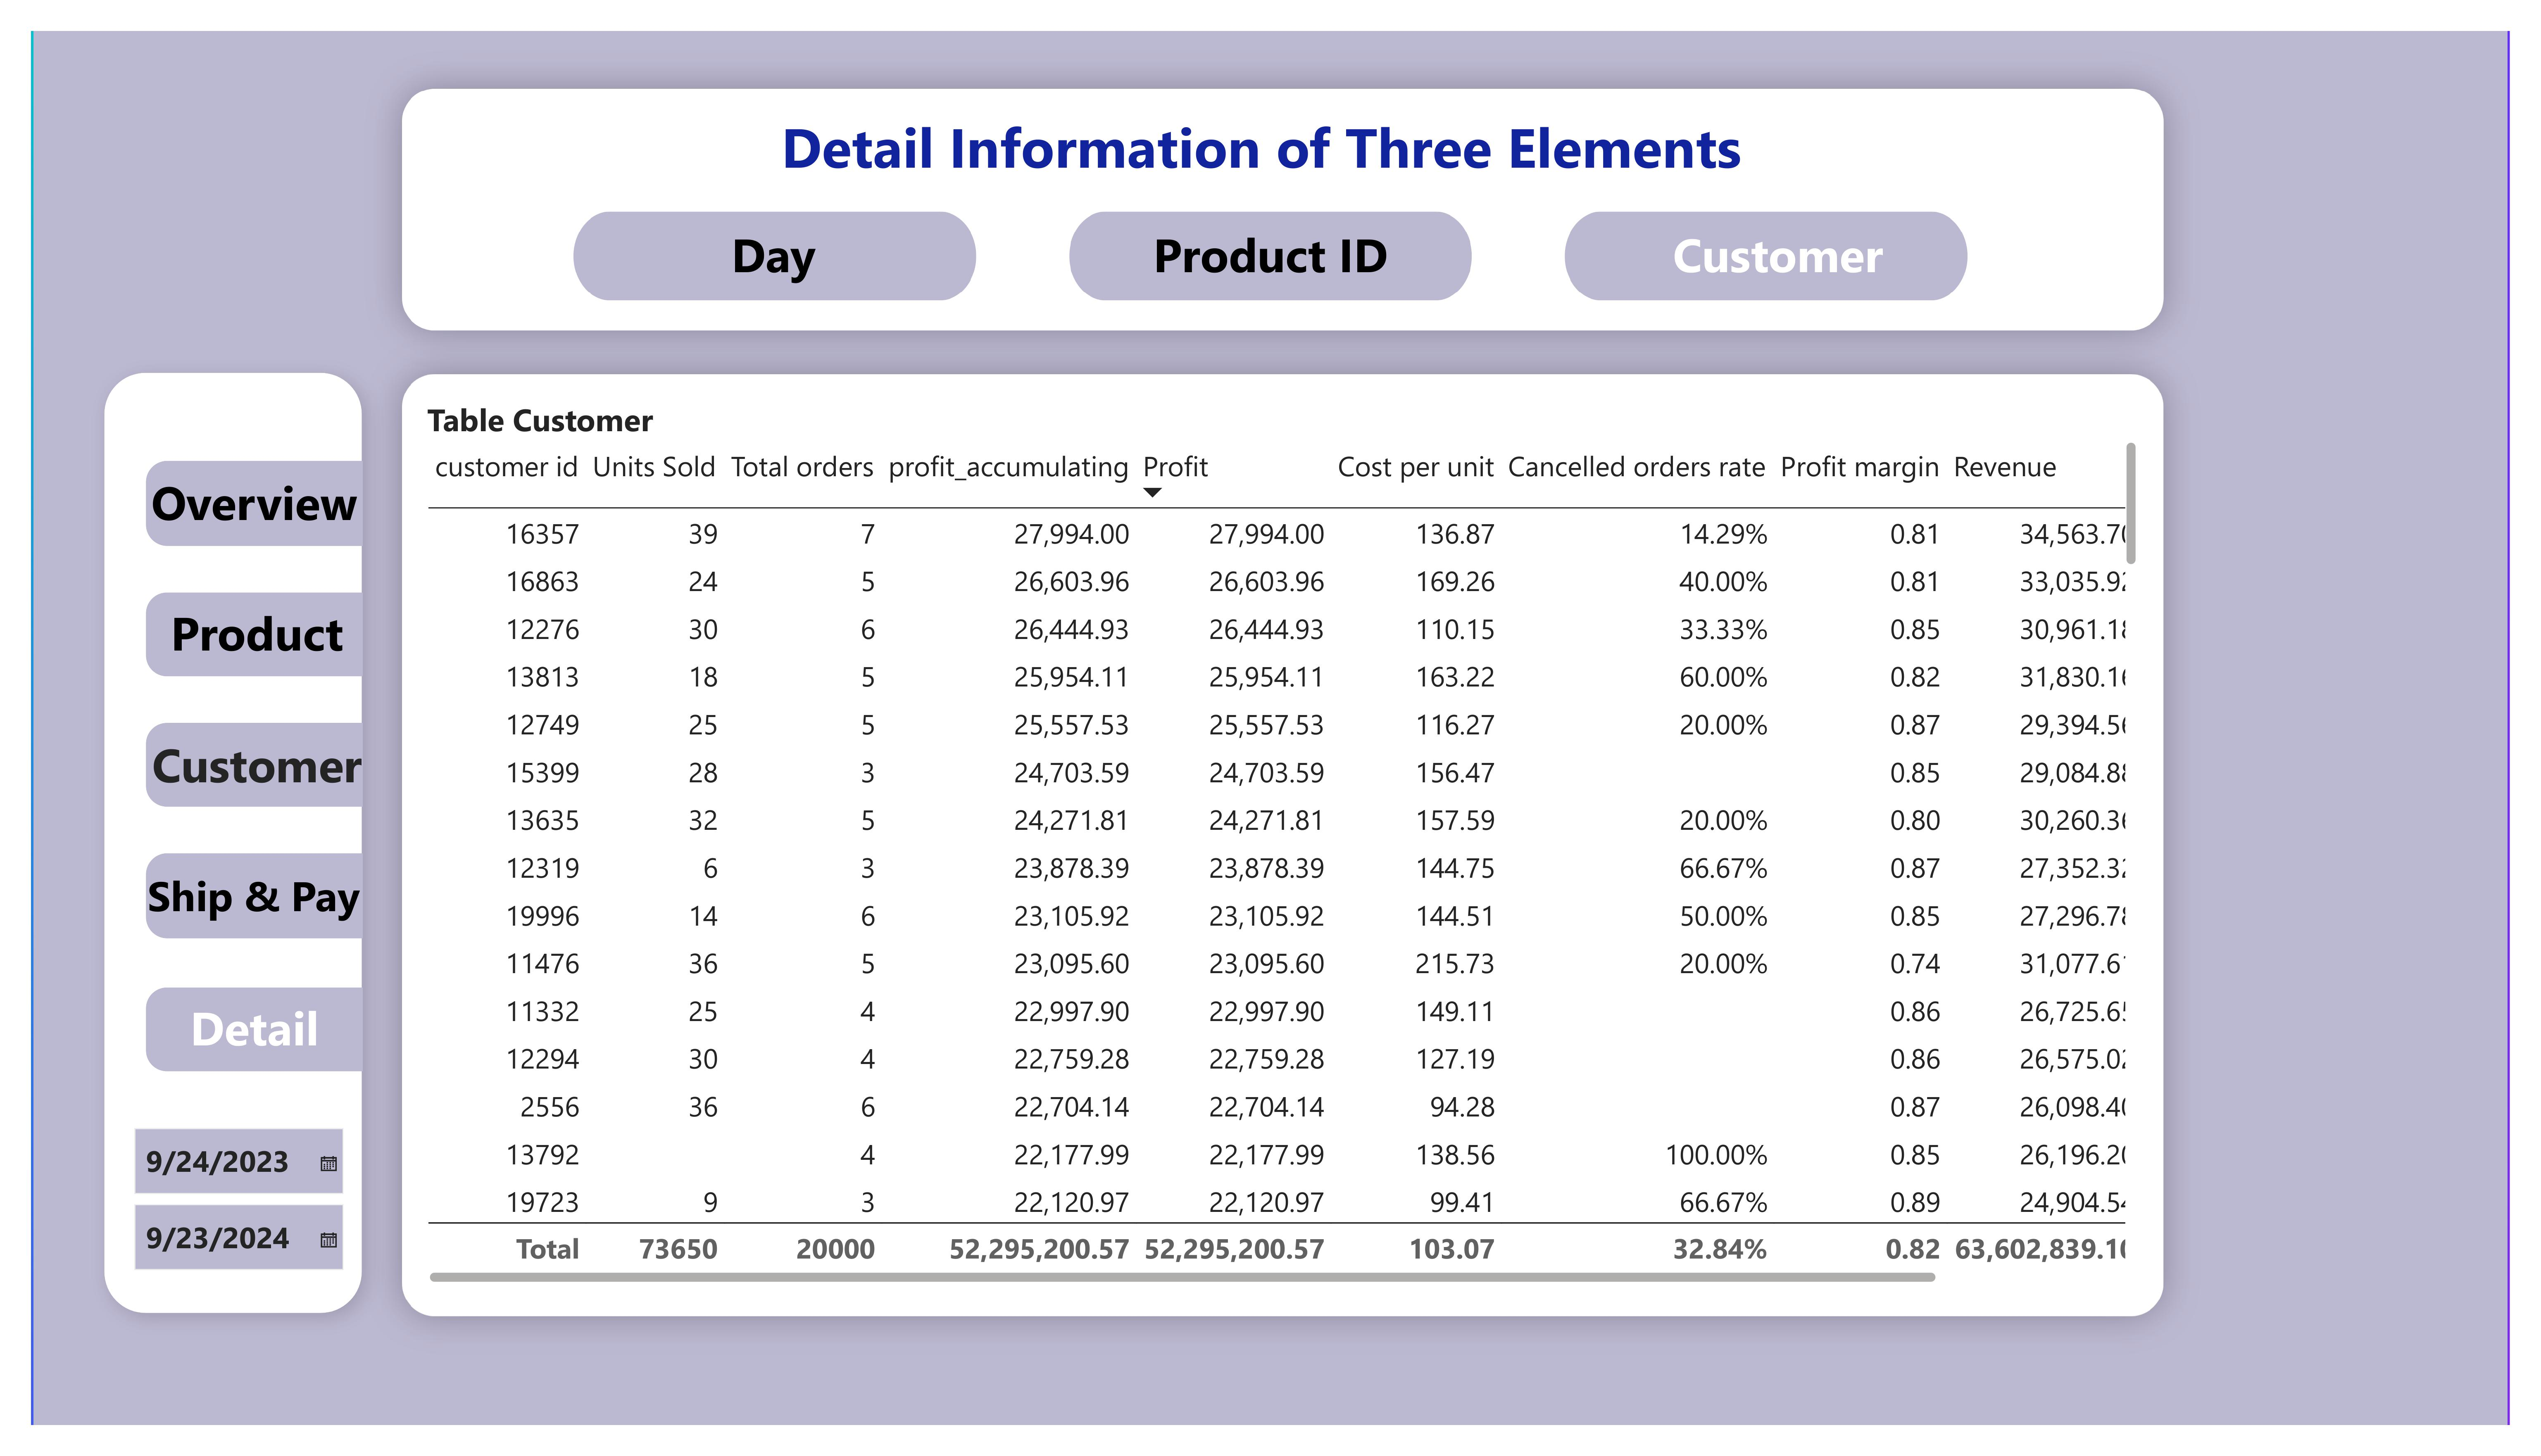

The page's visual inventory and layout, read from the dashboard file:
{"tool":"powerbi","page":{"name":"Detail","canvas":[1920,1080],"ordinal":4},"visuals":[{"type":"actionButton","title":"SKU Button inactive","box":[843.3,141.2,233.4,63.3],"z":2000},{"type":"tableEx","title":"Table Customer","fields":{"Values":["dim_customer.customer id","*Measure.Unit Sold","*Measure.count orders","*Measure.profit_accumulating","*Measure.profit","*Measure.cost per unit","*Measure.cancelled orders rate","*Measure.profit margin","*Measure.revenue1","*Measure.cost1"]},"box":[291.4,269.6,1355.4,716.6],"z":5000},{"type":"actionButton","title":"Day Button inactive","box":[479.6,141.2,190,63.3],"z":6000},{"type":"shape","box":[38,246.1,237.1,765.5],"z":8000},{"type":"shape","box":[88.7,333.4,168.3,65.1],"z":9000},{"type":"actionButton","title":"Customer Button  ","box":[1257.7,141.2,190,63.3],"z":10000},{"type":"textbox","box":[580.9,59.7,760.1,65.1],"z":11000},{"type":"shape","box":[88.7,536.1,168.3,65.1],"z":12000},{"type":"shape","box":[88.7,740.6,168.3,65.1],"z":13000},{"type":"shape","box":[88.7,434.7,168.3,65.1],"z":14000},{"type":"shape","box":[88.7,637.4,168.3,65.1],"z":15000},{"type":"actionButton","box":[77.8,333,190,63.3],"z":16000},{"type":"actionButton","box":[79.6,434.3,190,63.3],"z":17000},{"type":"actionButton","box":[79.6,535.7,190,63.3],"z":18000},{"type":"actionButton","box":[73.3,636.6,198.8,64.5],"z":19000},{"type":"actionButton","box":[77.8,740.2,190,63.3],"z":20000},{"type":"slicer","fields":{"Values":["dim_calendar.Date"]},"box":[72.4,845.1,170.1,128.5],"z":21000}]}

Visuals, with their boxes on the page's 1920x1080 design canvas (x1, y1, x2, y2). These are canvas units, not pixel positions in the 2541x1456 screenshot, which may show the page scaled, cropped or inside an application window:
"SKU Button inactive" actionButton: locate(843, 141, 1077, 204)
"Table Customer" tableEx: locate(291, 270, 1647, 986)
"Day Button inactive" actionButton: locate(480, 141, 670, 204)
shape: locate(38, 246, 275, 1012)
shape: locate(89, 333, 257, 398)
"Customer Button  " actionButton: locate(1258, 141, 1448, 204)
textbox: locate(581, 60, 1341, 125)
shape: locate(89, 536, 257, 601)
shape: locate(89, 741, 257, 806)
shape: locate(89, 435, 257, 500)
shape: locate(89, 637, 257, 702)
actionButton: locate(78, 333, 268, 396)
actionButton: locate(80, 434, 270, 498)
actionButton: locate(80, 536, 270, 599)
actionButton: locate(73, 637, 272, 701)
actionButton: locate(78, 740, 268, 804)
slicer - dim_calendar.Date: locate(72, 845, 242, 974)
